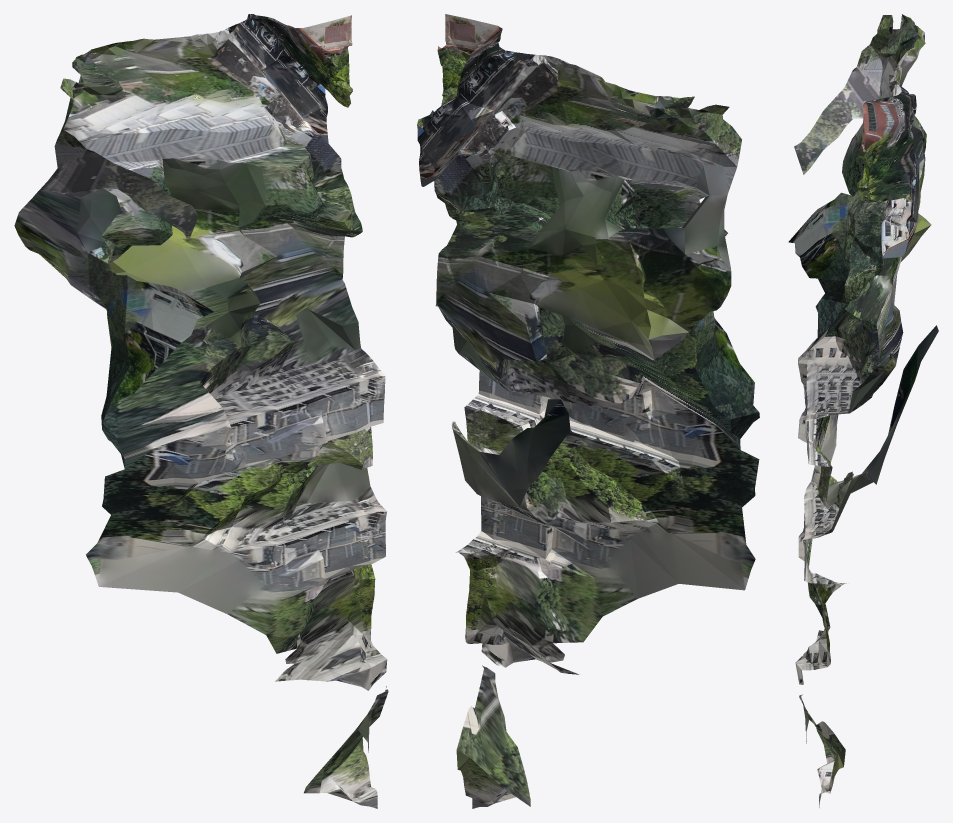
File: Tile_+000_+002.obj
The picture shows the model from 3 angles, left to right: view 1: azimuth 30°, elevation 25°; view 2: azimuth 150°, elevation 25°; view 3: azimuth 270°, elevation 25°; orthographic projection. The views are drawn at different scales.
Bounding box in the file's own units: 76.79 × 187 × 37.32.
1 material, 1 textured.
